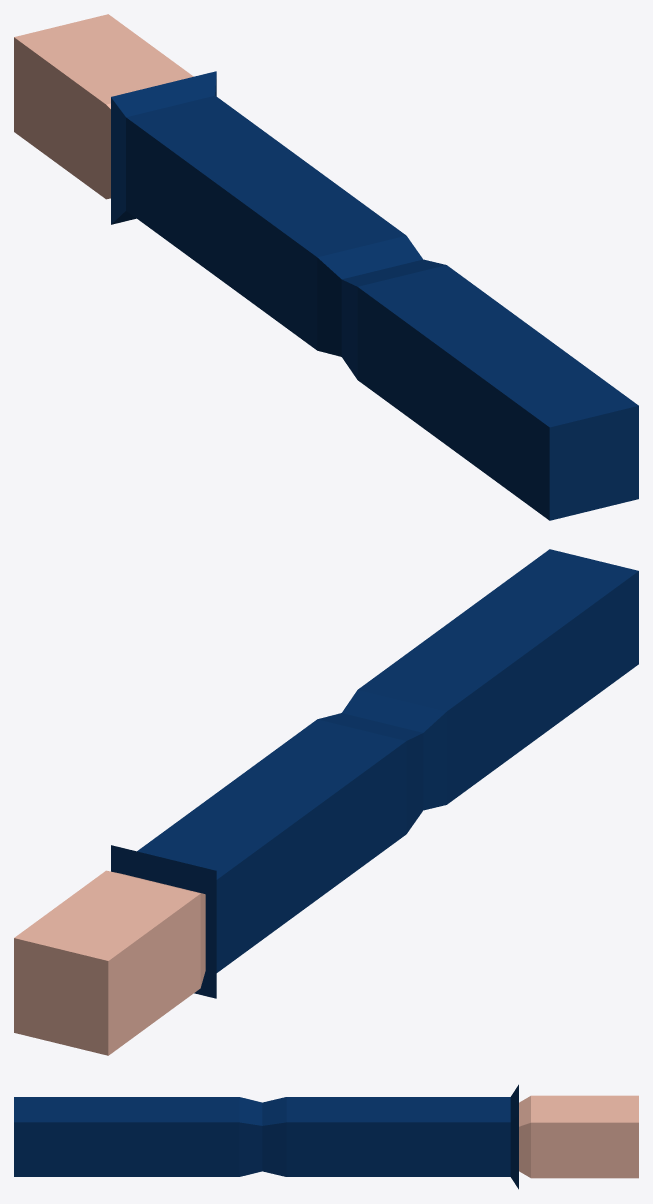
The model's file is hand.fbx.
3 views of the same model, one above another, from view 1: azimuth 30°, elevation 25°; view 2: azimuth 150°, elevation 25°; view 3: azimuth 270°, elevation 25° (orthographic). The views are drawn at different scales.
Parts seen in each view (by area): view 1: Cube; view 2: Cube; view 3: Cube.
Part boxes in pixels (x1,y1,x2,y2): Cube: (14,14,638,520); Cube: (14,549,638,1055); Cube: (14,1084,638,1189).
Bounding box in the file's own units: 110 × 127 × 958.
1 material, 1 textured.
